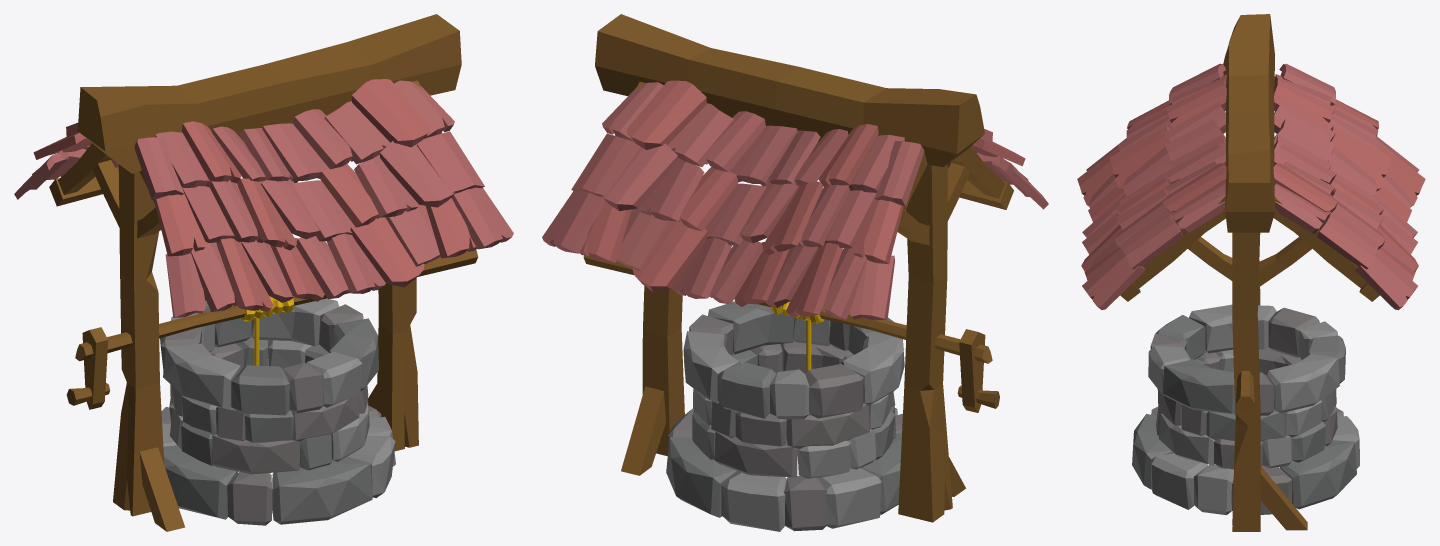
File: Well_full.fbx
The picture shows the model from 3 angles, left to right: view 1: azimuth 30°, elevation 25°; view 2: azimuth 150°, elevation 25°; view 3: azimuth 270°, elevation 25°; orthographic projection. The views are drawn at different scales.
Parts seen in each view (by area): view 1: Cube.007, Cube.003, Cube, Cube.005, Cube.002, Cube.001, Cube.004, Cube.049, Cube.034, Cylinder, Cube.020, Cube.030 (+32 smaller); view 2: Cube.007, Cube.003, Cube.005, Cube, Cube.002, Cube.001, Cube.004, Cube.049, Cube.020, Cube.034, Cube.030, Cube.042 (+32 smaller); view 3: Cube.003, Cube.007, Cube, Cube.004, Cube.002, Cube.001, Cube.040, Cube.031, Cube.035, Cube.050, Cube.008, Cube.041 (+28 smaller).
Boxes of the visible parts, left/top/right/bottom form: Cube.007: left=77, top=14, right=461, bottom=173; Cube.003: left=160, top=298, right=378, bottom=415; Cube: left=161, top=405, right=395, bottom=525; Cube.005: left=113, top=164, right=164, bottom=516; Cube.002: left=170, top=336, right=368, bottom=442; Cube.001: left=169, top=360, right=369, bottom=474; Cube.004: left=376, top=278, right=418, bottom=451; Cube.049: left=351, top=79, right=430, bottom=147; Cube.034: left=33, top=133, right=207, bottom=256; Cylinder: left=75, top=250, right=477, bottom=361; Cube.020: left=14, top=152, right=205, bottom=317; Cube.030: left=350, top=217, right=424, bottom=287; Cube.007: left=595, top=14, right=984, bottom=167; Cube.003: left=683, top=301, right=904, bottom=419; Cube.005: left=898, top=164, right=952, bottom=522; Cube: left=666, top=408, right=902, bottom=531; Cube.002: left=693, top=341, right=895, bottom=448; Cube.001: left=692, top=405, right=896, bottom=478; Cube.004: left=642, top=286, right=684, bottom=455; Cube.049: left=626, top=80, right=706, bottom=149; Cube.020: left=849, top=158, right=1048, bottom=320; Cube.034: left=851, top=138, right=1025, bottom=264; Cube.030: left=632, top=221, right=707, bottom=292; Cube.042: left=602, top=143, right=678, bottom=210; Cube.003: left=1148, top=304, right=1345, bottom=415; Cube.007: left=1223, top=14, right=1274, bottom=232; Cube: left=1132, top=406, right=1359, bottom=515; Cube.004: left=1232, top=232, right=1260, bottom=531; Cube.002: left=1157, top=346, right=1336, bottom=441; Cube.001: left=1156, top=405, right=1337, bottom=469; Cube.040: left=1120, top=211, right=1379, bottom=269; Cube.031: left=1082, top=250, right=1417, bottom=310; Cube.035: left=1110, top=126, right=1390, bottom=191; Cube.050: left=1169, top=183, right=1331, bottom=233; Cube.008: left=1133, top=76, right=1366, bottom=288; Cube.041: left=1166, top=80, right=1335, bottom=127.
Bounding box in the file's own units: 359 × 359 × 299.
